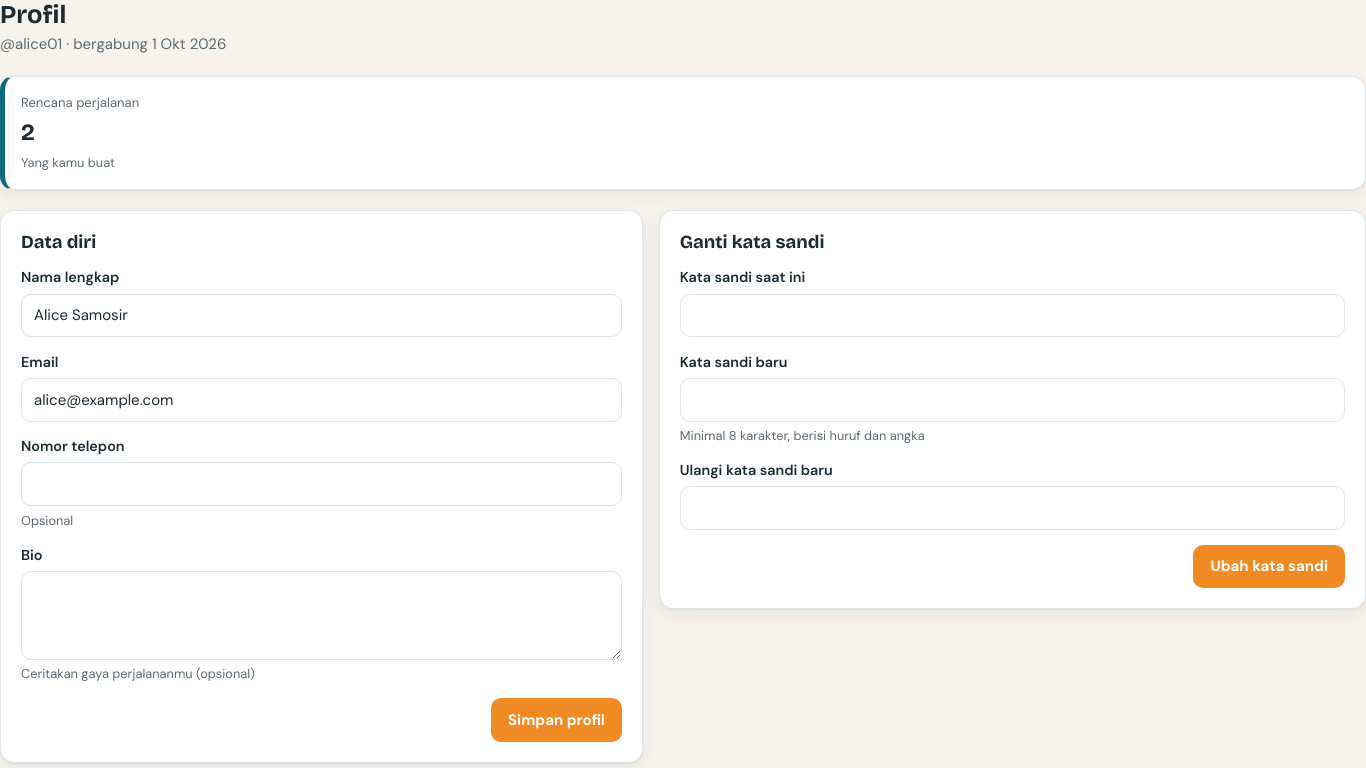
Scenario: profil › menolak konfirmasi kata sandi baru yang berbeda tanpa memanggil API
Expected: the field labelled "Nama lengkap" is shown, [21, 294, 622, 337]
Type "lama12345" into the password field labelled "Kata sandi saat ini" at point(1012, 315), box [680, 294, 1345, 337]
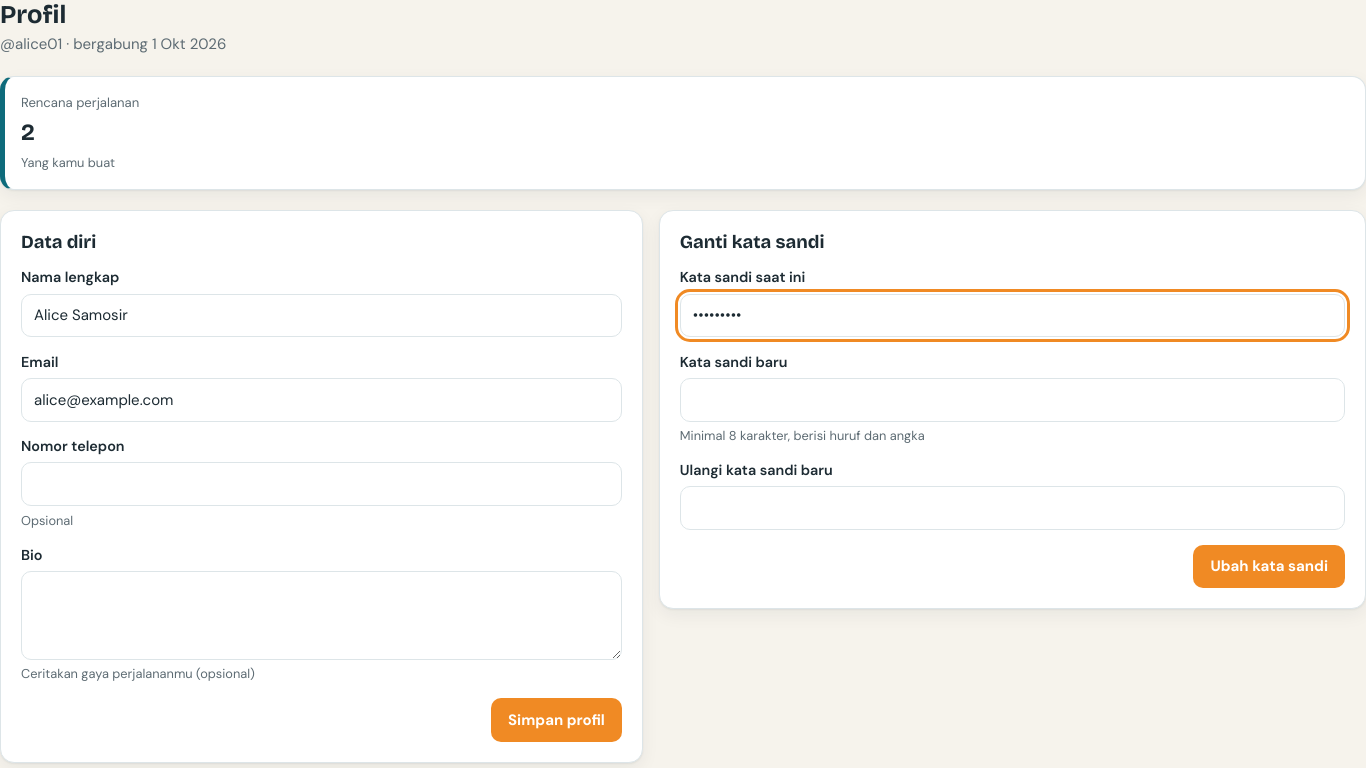
Type "baru12345" into the password field labelled "Kata sandi baru" at point(1012, 400), box [680, 378, 1345, 422]
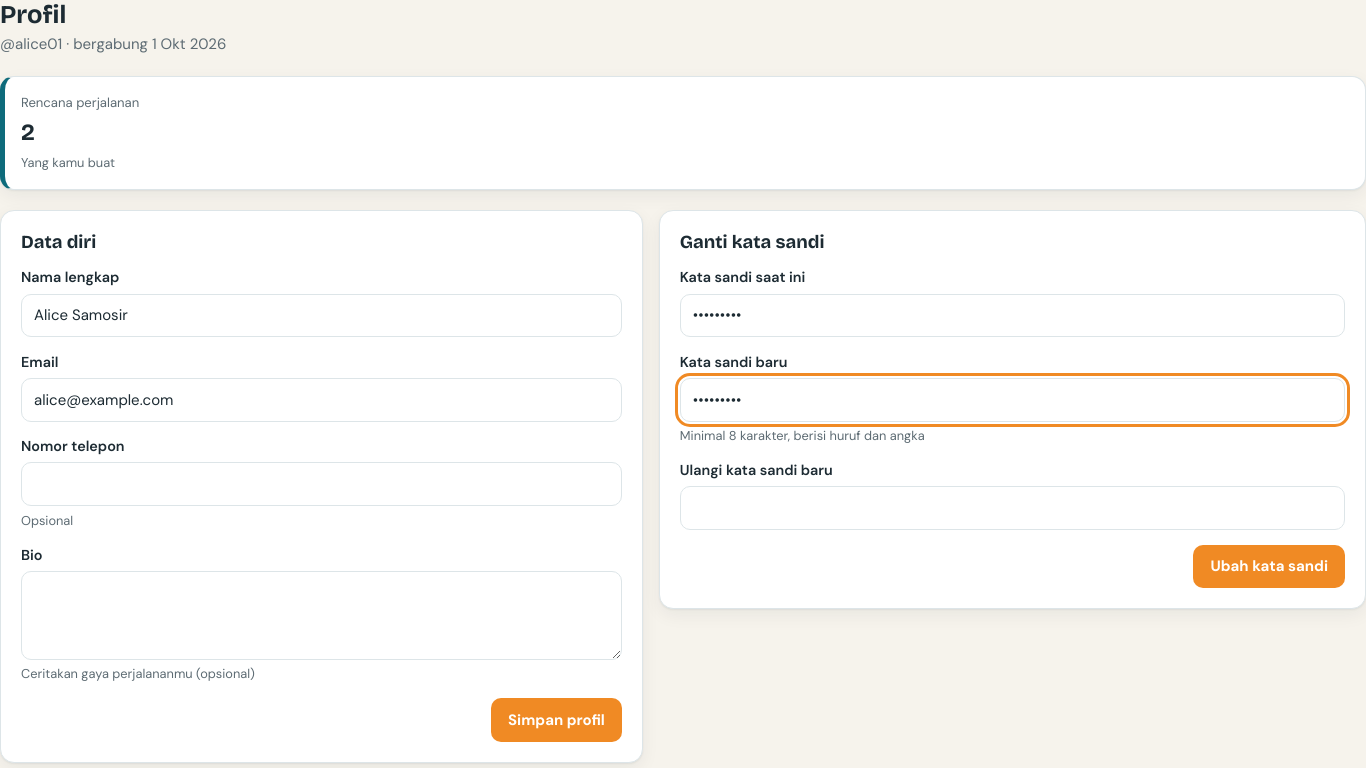
Type "beda12345" into the password field labelled "Ulangi kata sandi baru" at point(1012, 508), box [680, 486, 1345, 530]
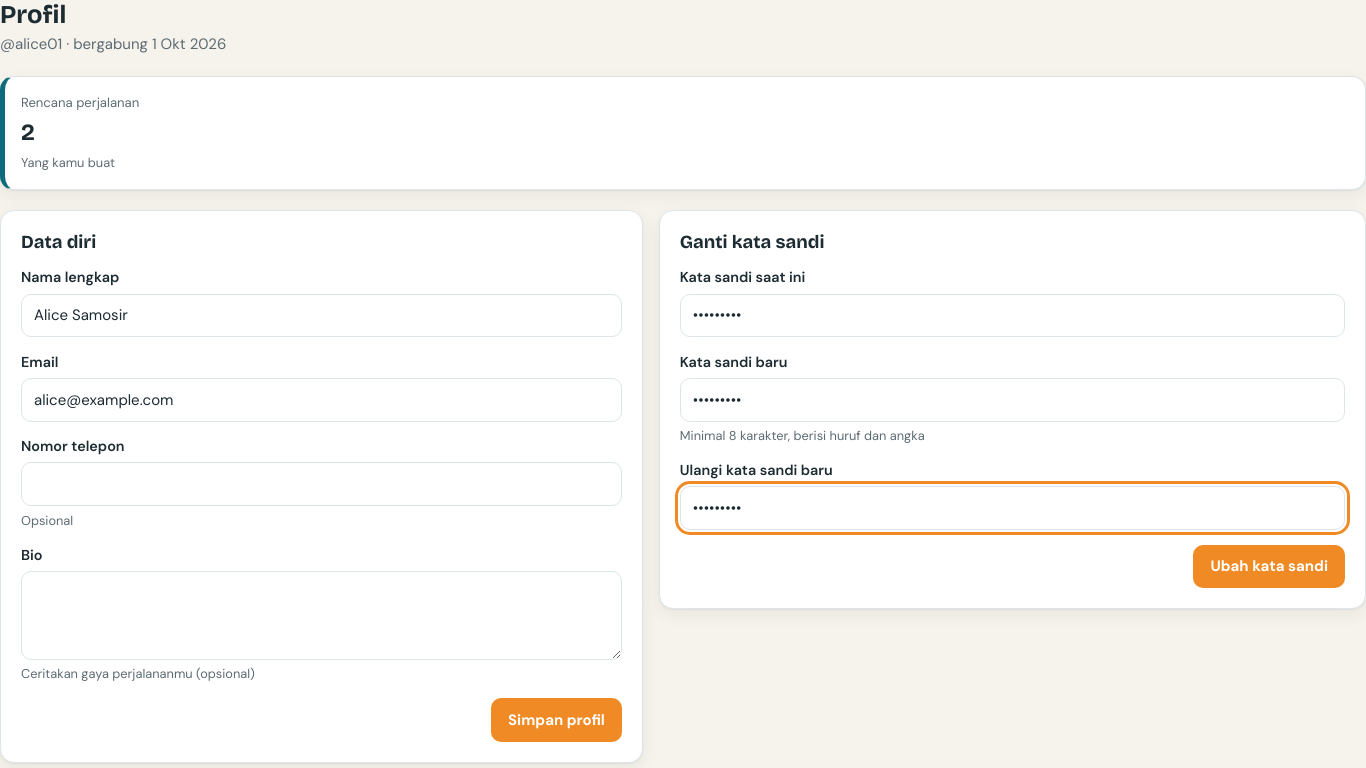
Click the button "Ubah kata sandi" at point(1269, 566), box [1194, 544, 1345, 588]
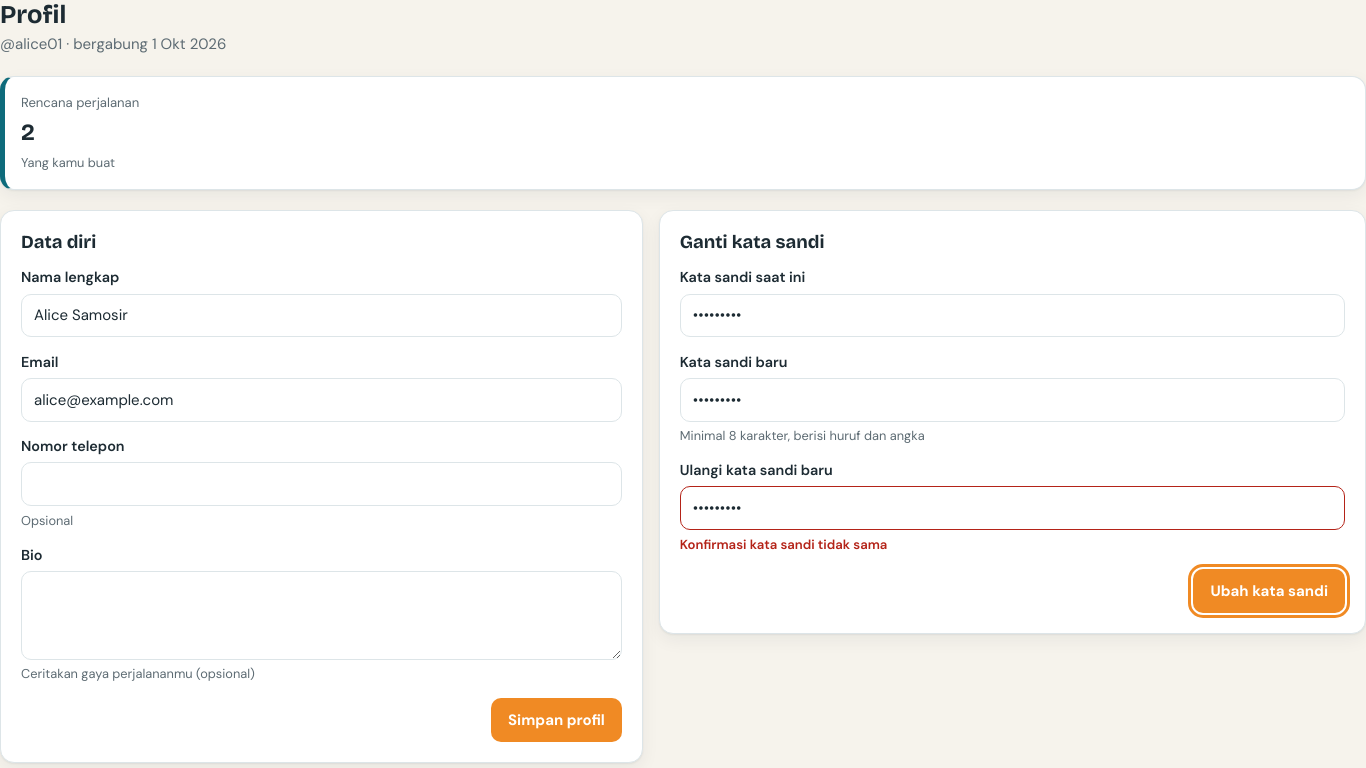
Expected: the text "Konfirmasi kata sandi tidak sama" is shown, [680, 536, 887, 553]
